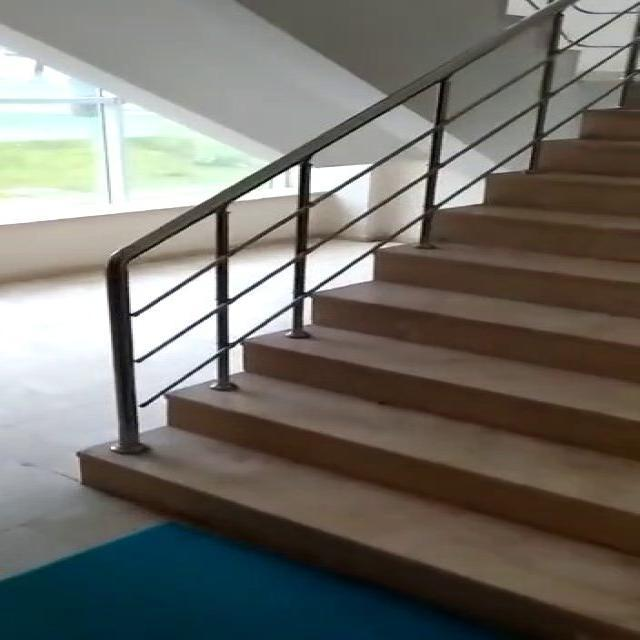stair: (53, 48, 640, 627)
